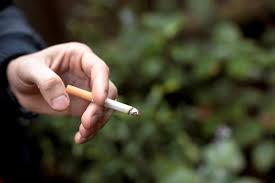smoke: (66, 84, 140, 116)
